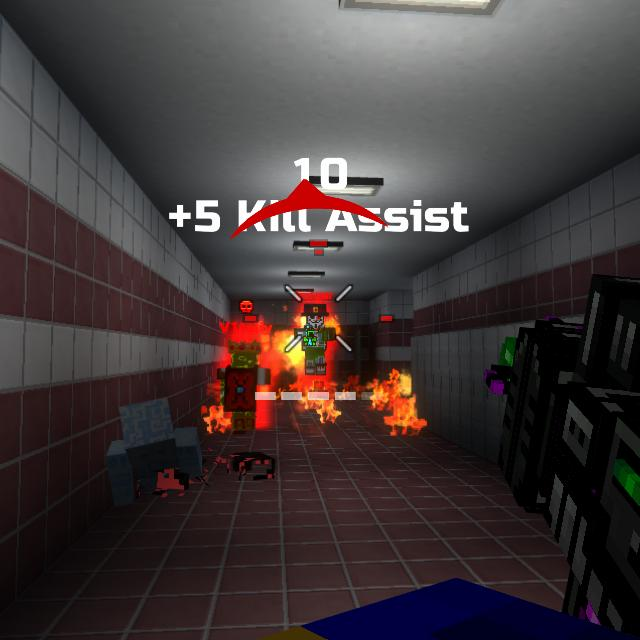Enemy: (218, 337, 273, 429), (293, 304, 337, 373)
